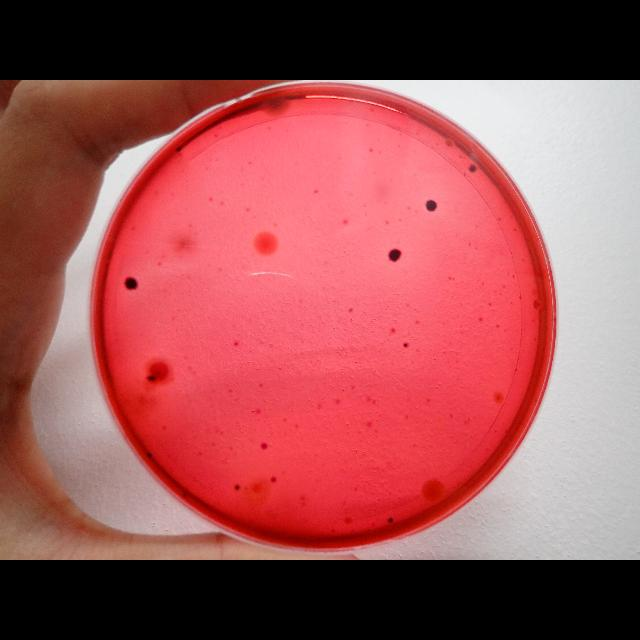colony: (386, 244, 404, 266), (122, 274, 140, 294), (422, 197, 440, 216), (145, 369, 157, 386), (466, 160, 478, 176), (144, 448, 154, 462), (386, 514, 394, 526), (401, 340, 409, 350), (233, 482, 240, 492)
